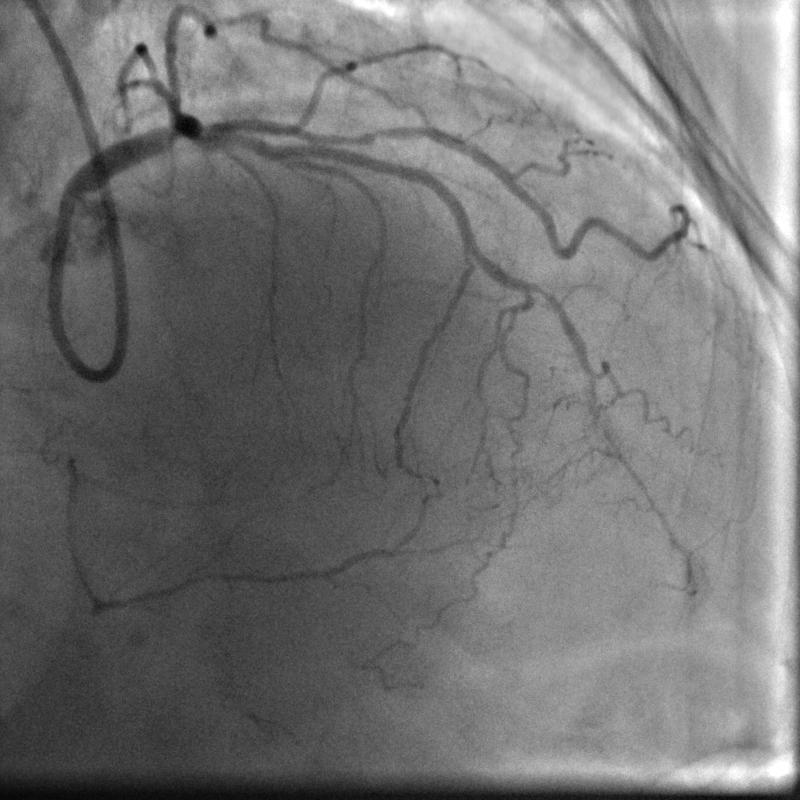Stenosis: (145, 111, 183, 151)
